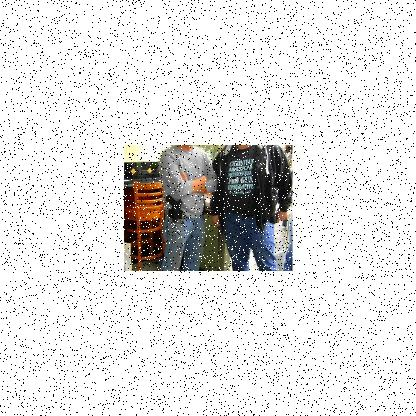gun: (165, 194, 182, 226)
